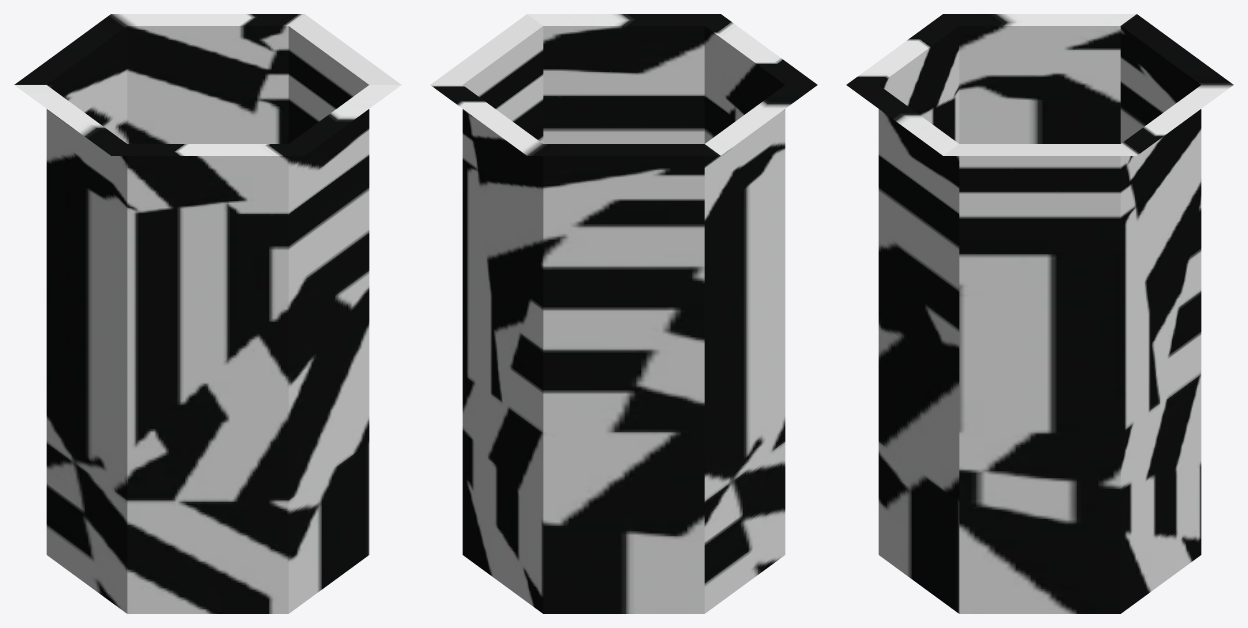
3 views of the same model, side by side, from view 1: azimuth 30°, elevation 25°; view 2: azimuth 150°, elevation 25°; view 3: azimuth 270°, elevation 25° (orthographic).
Parts seen in each view (by area): view 1: Cylinder.004; view 2: Cylinder.004; view 3: Cylinder.004.
Part boxes in pixels (left/top/right/bottom): Cylinder.004: left=14, top=14, right=401, bottom=613; Cylinder.004: left=430, top=14, right=817, bottom=613; Cylinder.004: left=846, top=14, right=1233, bottom=613.
Size of the model in its own units: 11.31 by 17.46 by 13.06.
Materials: 1 (1 with a texture image).
